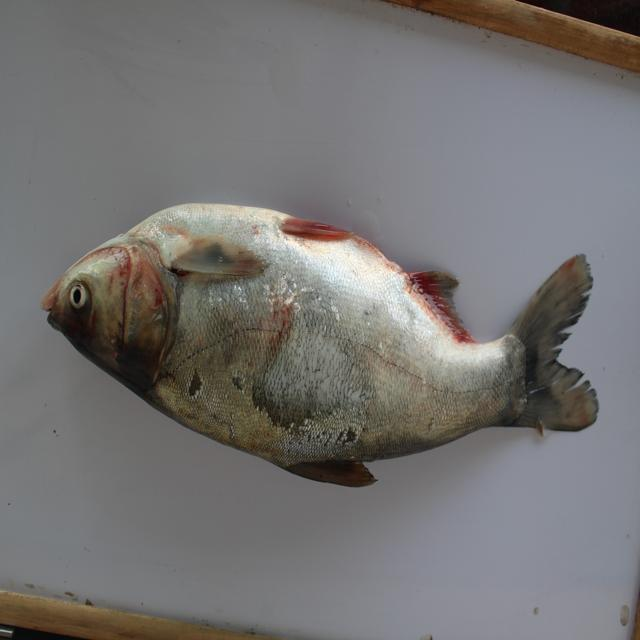SilverCarp: (34, 191, 627, 489)
